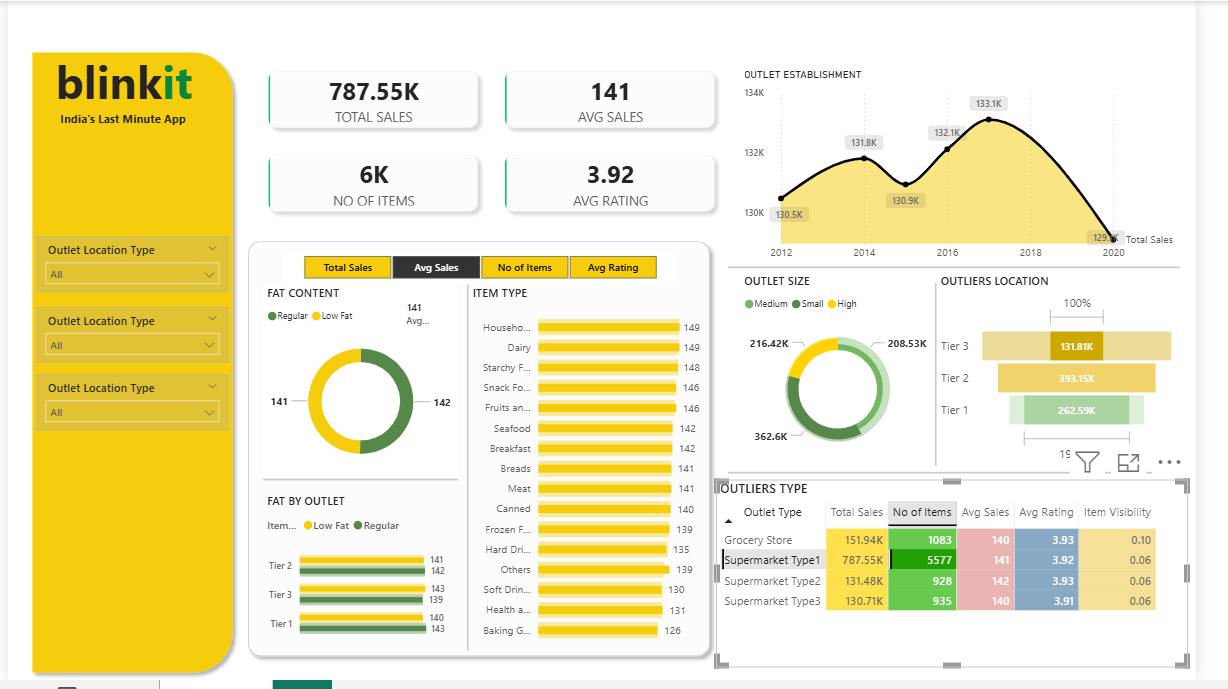

The dashboard page shown, as its layout file describes it:
{"tool":"powerbi","page":{"name":"Page 1","canvas":[1400,800],"ordinal":0},"visuals":[{"type":"shape","box":[19.4,51.3,254.5,749.4],"z":0},{"type":"textbox","box":[0,53,273.9,95.4],"z":1000},{"type":"textbox","box":[46,123.7,213.8,47.7],"z":2000},{"type":"cardVisual","fields":{"Data":["BlinkIT-Grocery-Data.Total Sales","BlinkIT-Grocery-Data.Avg Sales","BlinkIT-Grocery-Data.No of Items","BlinkIT-Grocery-Data.Avg Rating"]},"box":[277.5,53,585,224.5],"z":3000},{"type":"shape","box":[273.9,273.9,562,507.2],"z":4000},{"type":"donutChart","title":"FAT CONTENT","fields":{"Y":["BlinkIT-Grocery-Data.Avg Rating"],"Category":["BlinkIT-Grocery-Data.Item Fat Content"]},"box":[300.4,334,229.8,229.8],"z":5000},{"type":"slicer","fields":{"Values":["Metrics.Metrics"]},"box":[323.4,293.4,464.8,40.6],"z":6000},{"type":"cardVisual","fields":{"Data":["BlinkIT-Grocery-Data.Avg Rating"]},"box":[427.7,334,102.5,67.2],"z":7000},{"type":"clusteredBarChart","title":"FAT BY OUTLET","fields":{"Y":["BlinkIT-Grocery-Data.Avg Rating"],"Category":["BlinkIT-Grocery-Data.Outlet Location Type"],"Series":["BlinkIT-Grocery-Data.Item Fat Content"]},"box":[300.4,579.7,219.2,185.6],"z":8000},{"type":"shape","box":[300.4,547.9,229.8,31.8],"z":9000},{"type":"shape","box":[526.7,334,30,431.2],"z":10000},{"type":"barChart","title":"ITEM TYPE","fields":{"Y":["BlinkIT-Grocery-Data.Avg Rating"],"Category":["BlinkIT-Grocery-Data.Item Type"]},"box":[542.6,334,277.5,431.2],"z":11000},{"type":"lineChart","title":"OUTLET ESTABLISHMENT","fields":{"Category":["BlinkIT-Grocery-Data.Outlet Establishment Year"],"Y":["BlinkIT-Grocery-Data.Total Sales"]},"box":[862.5,79.5,517.8,235.1],"z":12000},{"type":"shape","box":[848.3,293.4,532,40.6],"z":13000},{"type":"donutChart","title":"OUTLET SIZE","fields":{"Y":["BlinkIT-Grocery-Data.Total Sales"],"Category":["BlinkIT-Grocery-Data.Outlet Size"]},"box":[862.5,319.9,229.8,229.8],"z":14000},{"type":"shape","box":[1074.5,332.3,37.1,215.6],"z":15000},{"type":"funnel","title":"OUTLIERS LOCATION","fields":{"Category":["BlinkIT-Grocery-Data.Outlet Location Type"],"Y":["Sum(BlinkIT-Grocery-Data.Sales)"]},"box":[1094,319.9,286.3,229.8],"z":16000},{"type":"shape","box":[848.3,535.5,532,40.6],"z":17000},{"type":"pivotTable","title":"OUTLIERS TYPE","fields":{"Rows":["BlinkIT-Grocery-Data.Outlet Type"],"Values":["BlinkIT-Grocery-Data.Total Sales","BlinkIT-Grocery-Data.No of Items","BlinkIT-Grocery-Data.Avg Sales","BlinkIT-Grocery-Data.Avg Rating","Avg(BlinkIT-Grocery-Data.Item Visibility)"]},"box":[834.2,563.8,556.7,220.9],"z":18000},{"type":"slicer","fields":{"Values":["BlinkIT-Grocery-Data.Outlet Establishment Year"]},"box":[33.6,277.5,226.2,65.4],"z":19000},{"type":"slicer","fields":{"Values":["BlinkIT-Grocery-Data.Outlet Size"]},"box":[33.6,360.5,226.2,65.4],"z":20000},{"type":"slicer","fields":{"Values":["BlinkIT-Grocery-Data.Item Type"]},"box":[33.6,440.1,226.2,65.4],"z":21000}]}

Visuals, with their boxes in screenshot pixels (x1, y1, x2, y2), scaled from the page's 1400x800 canvas onto the 1228x689 screenshot:
shape: box=[17, 44, 240, 688]
textbox: box=[0, 46, 240, 128]
textbox: box=[40, 107, 228, 148]
cardVisual - BlinkIT-Grocery-Data.Total Sales x BlinkIT-Grocery-Data.Avg Sales: box=[243, 46, 757, 239]
shape: box=[240, 236, 733, 673]
"FAT CONTENT" donutChart: box=[263, 288, 465, 486]
slicer - Metrics.Metrics: box=[284, 253, 691, 288]
cardVisual - BlinkIT-Grocery-Data.Avg Rating: box=[375, 288, 465, 346]
"FAT BY OUTLET" clusteredBarChart: box=[263, 499, 456, 659]
shape: box=[263, 472, 465, 499]
shape: box=[462, 288, 488, 659]
"ITEM TYPE" barChart: box=[476, 288, 719, 659]
"OUTLET ESTABLISHMENT" lineChart: box=[757, 68, 1211, 271]
shape: box=[744, 253, 1211, 288]
"OUTLET SIZE" donutChart: box=[757, 276, 958, 473]
shape: box=[942, 286, 975, 472]
"OUTLIERS LOCATION" funnel: box=[960, 276, 1211, 473]
shape: box=[744, 461, 1211, 496]
"OUTLIERS TYPE" pivotTable: box=[732, 486, 1220, 676]
slicer - BlinkIT-Grocery-Data.Outlet Establishment Year: box=[29, 239, 228, 295]
slicer - BlinkIT-Grocery-Data.Outlet Size: box=[29, 310, 228, 367]
slicer - BlinkIT-Grocery-Data.Item Type: box=[29, 379, 228, 435]
